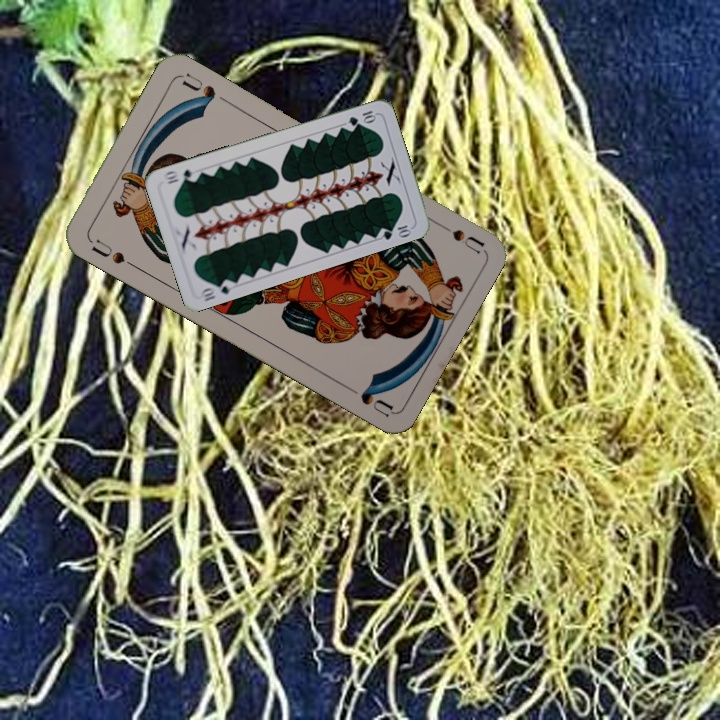G10: (197, 275, 237, 304), (345, 106, 378, 128)
SU: (430, 217, 486, 256), (85, 234, 139, 271)
